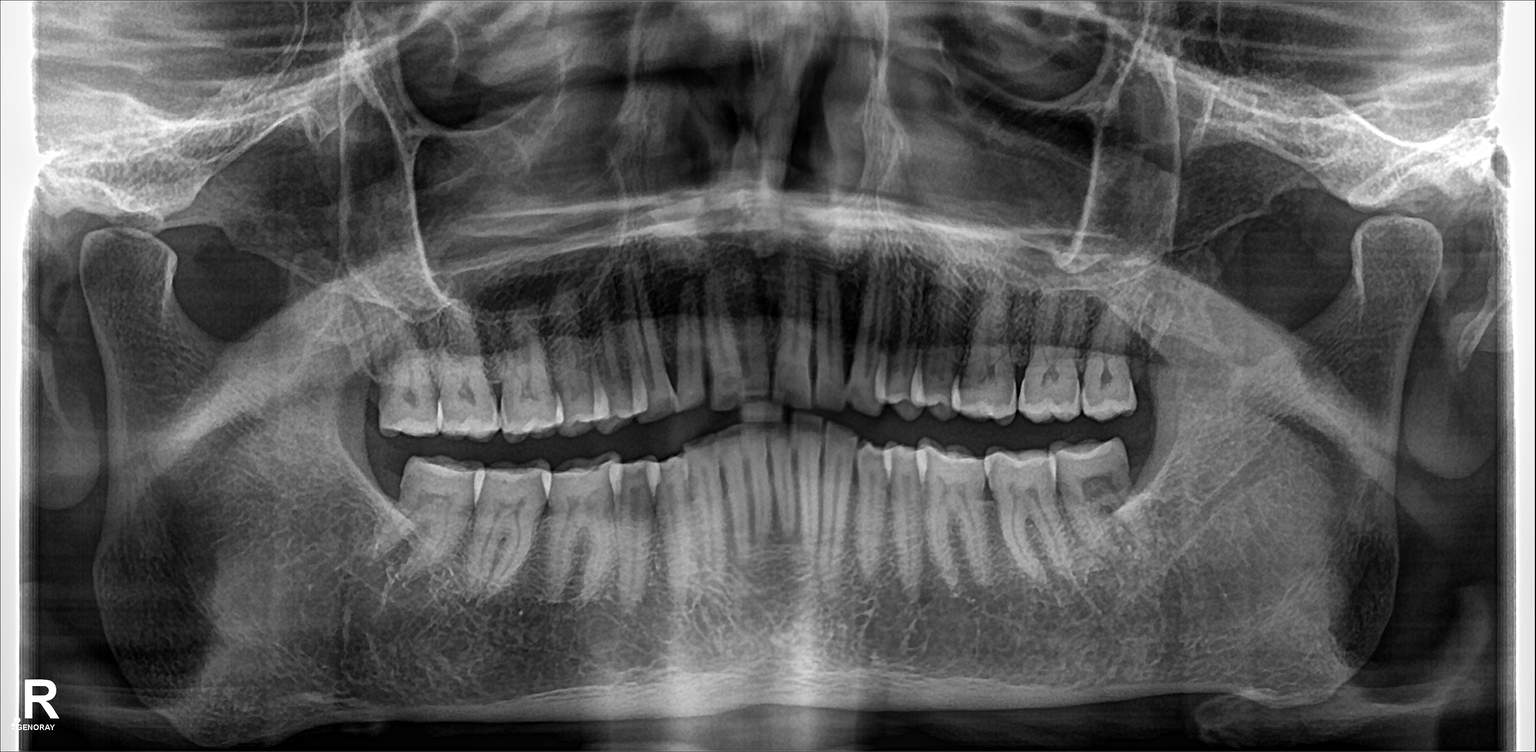Dental Caries: (397, 380, 419, 410)
Missing Tooth: (343, 439, 398, 530), (343, 342, 384, 435), (1123, 430, 1167, 512), (1123, 320, 1161, 398)
